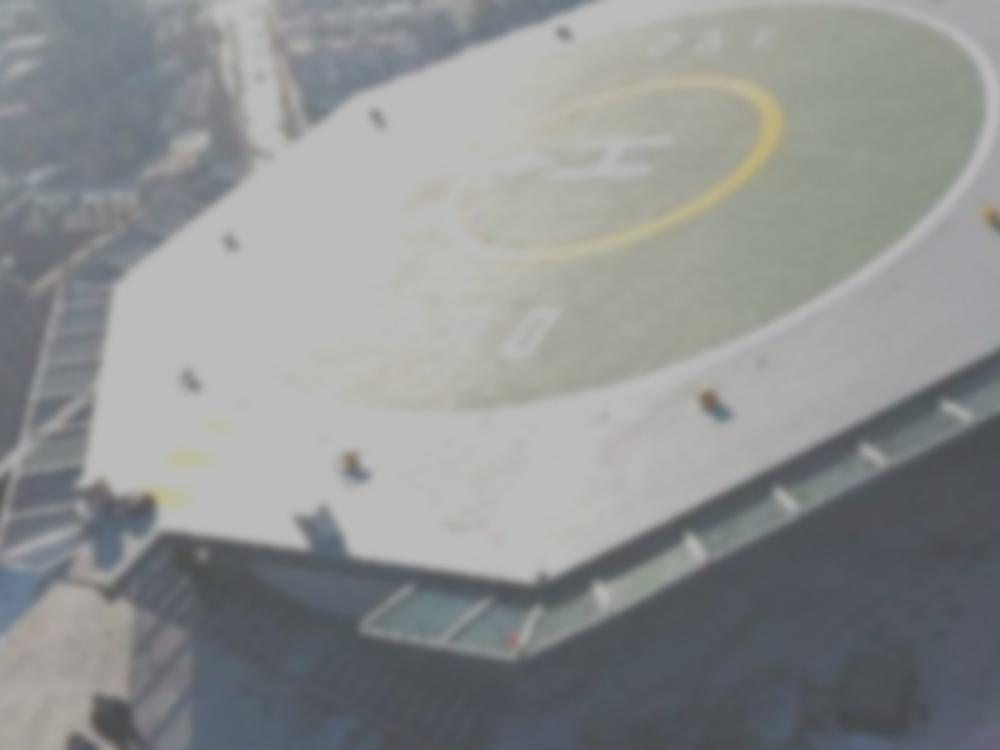Apron: (441, 69, 790, 269)
